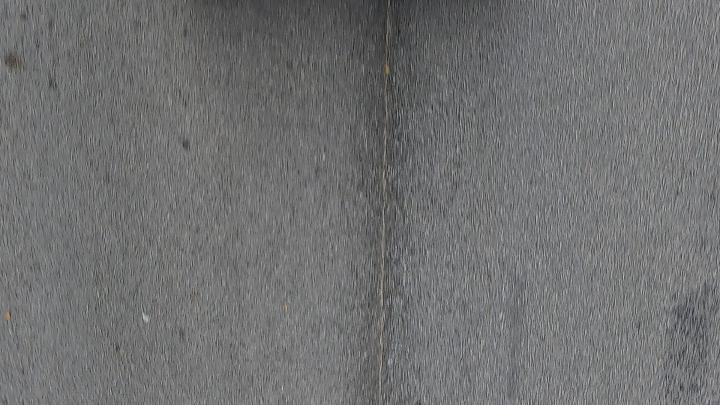Crack: (372, 0, 400, 405), (370, 0, 395, 404)
